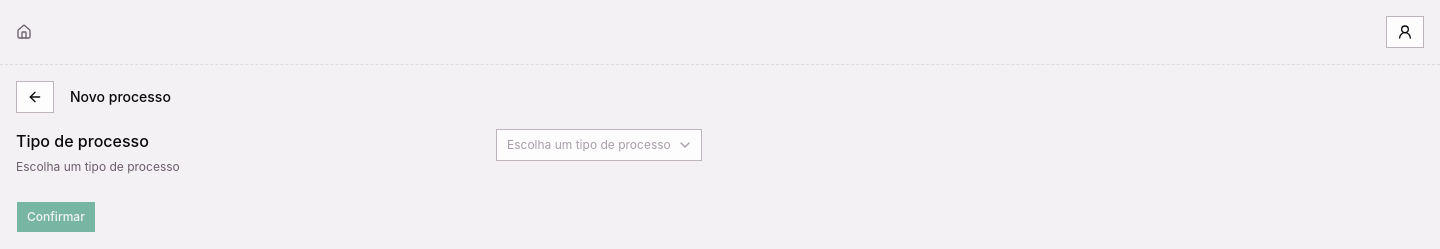
Test: ProcessAddPage (T25 — WEB-07) › WEB-07 AC1: lists non-archived process templates by label; archived ones are never selectable
The width and height of the screenshot is (1440, 249).
Click the dropdown at (599, 145), box [496,129,702,161]
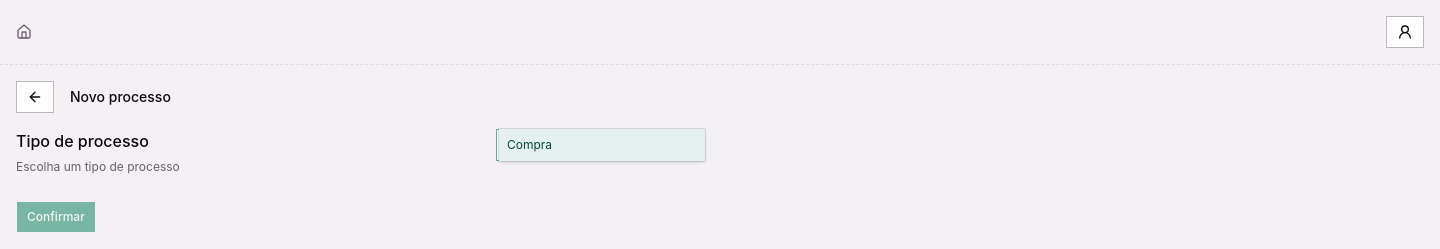
Result: the option "Compra" is shown at [499,129,705,161]
